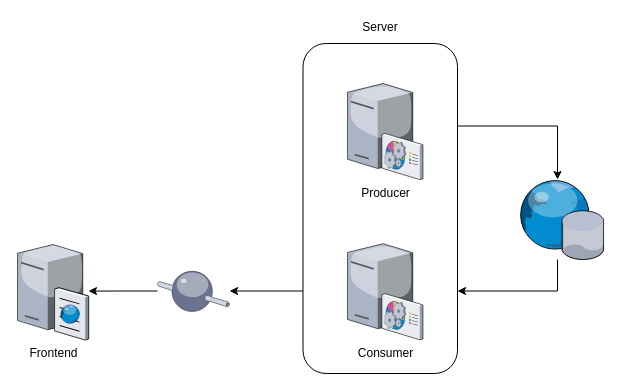
Some shapes in this 621 by 391 pixel diagram are drawn without their labels. Each missing label, with the centre of its shape:
"Kafka" belongs at (560,219).
"socket" belongs at (193,290).
